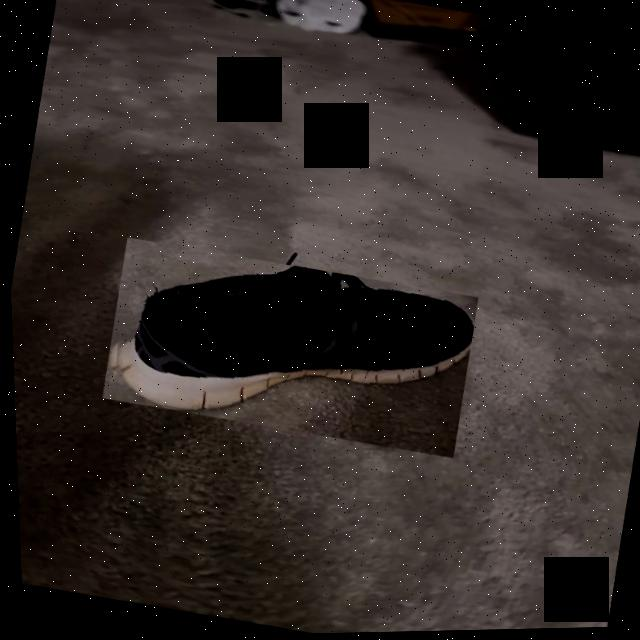shoe: (94, 232, 481, 466)
